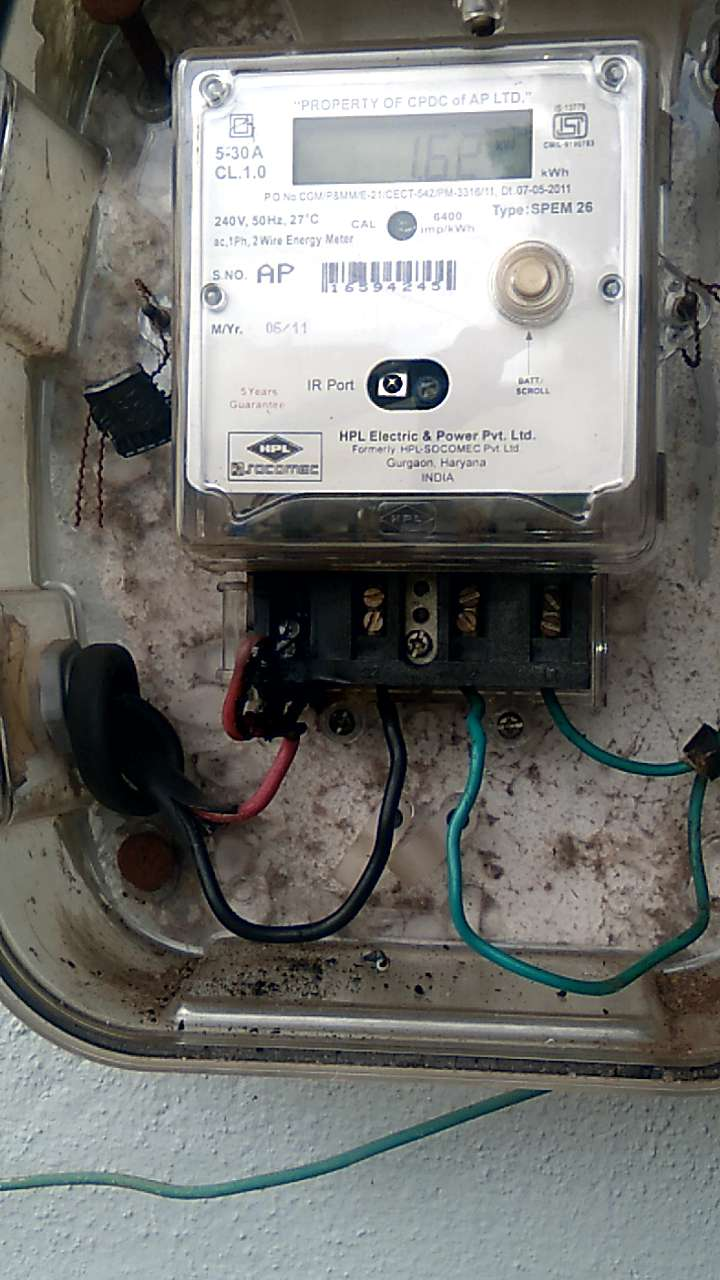meter_serial_number: (322, 279, 450, 294)
